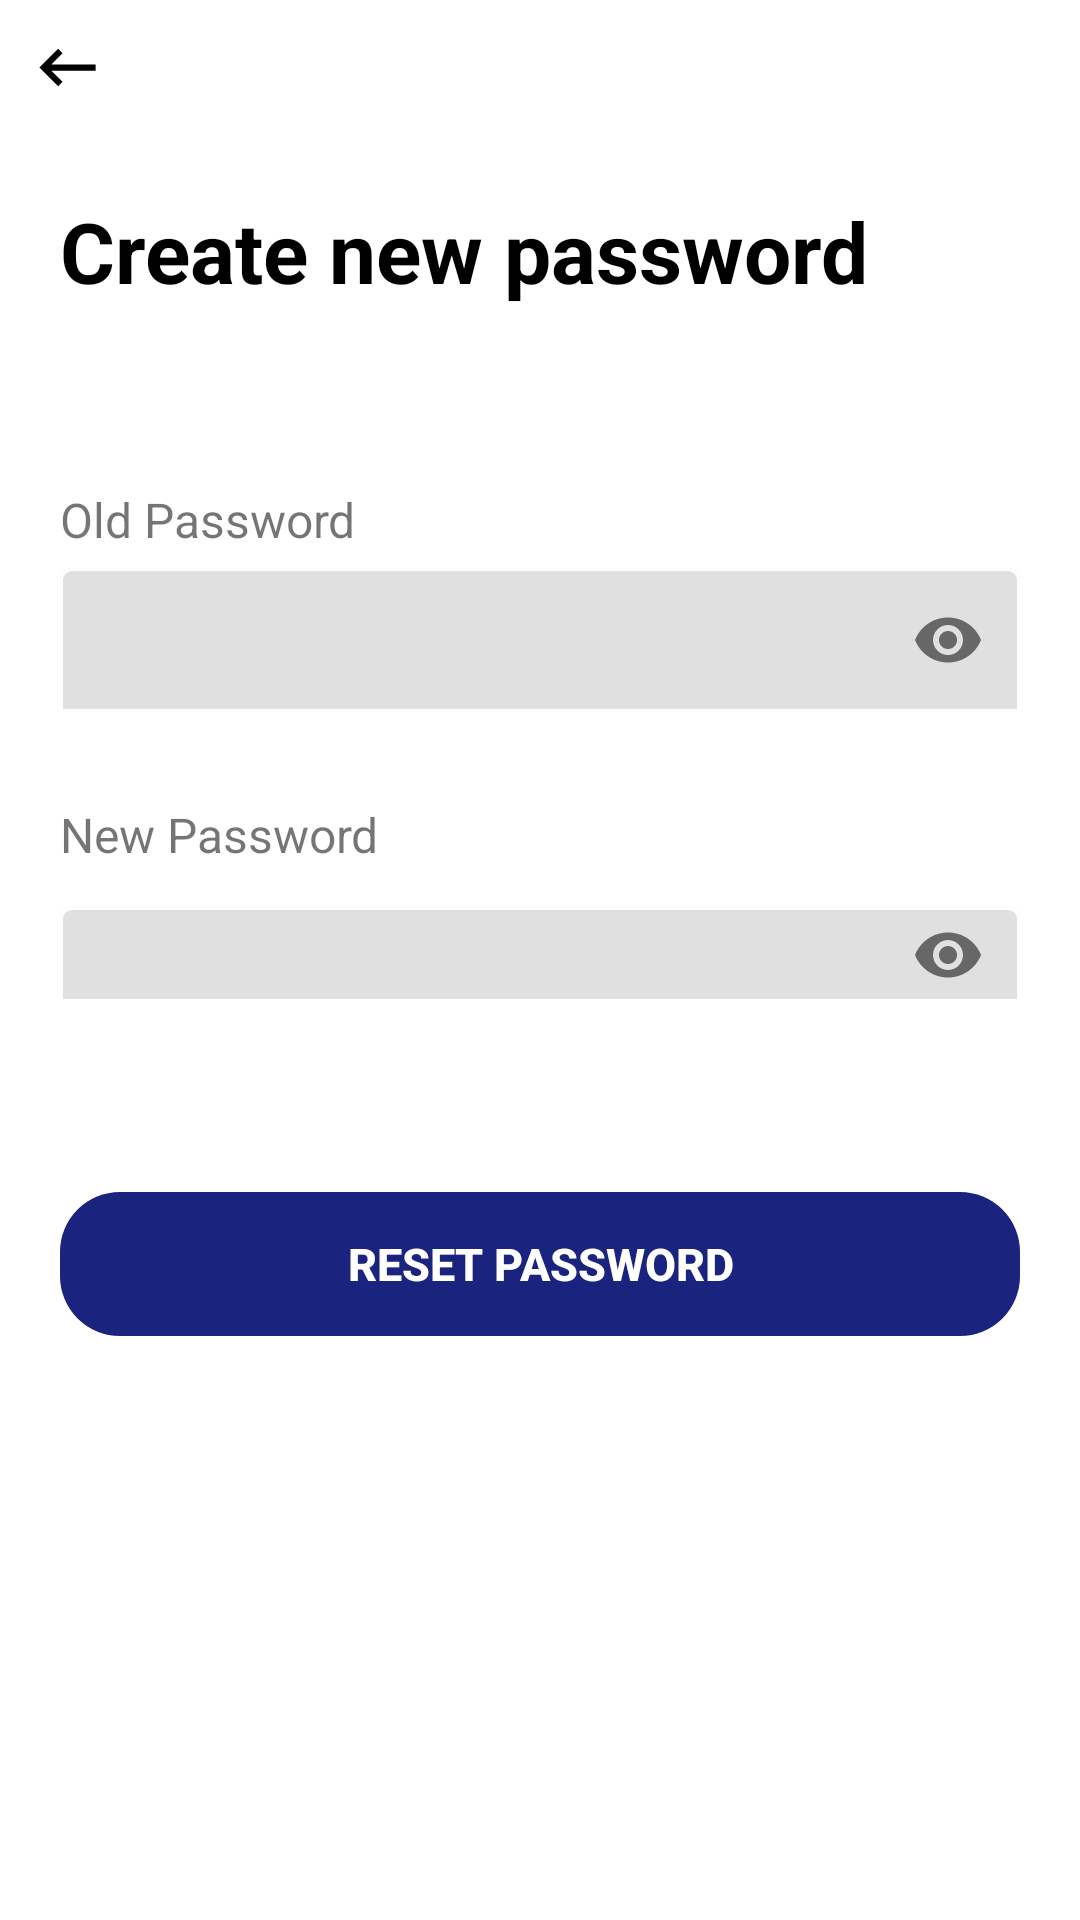

Icons on this 1080px x 1920px Android screen, each with the point to tap as (x=x, y=y):
keyboard backspace: (x=67, y=67)
